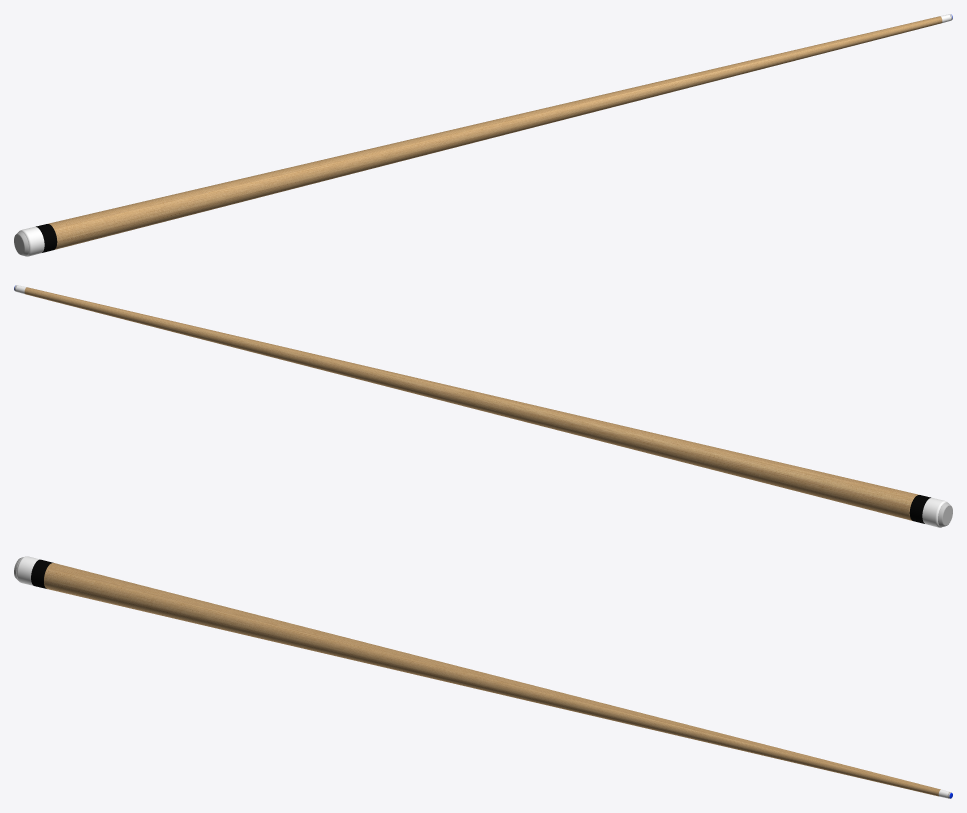
File: cue.obj
The picture shows the model from 3 angles, top to bottom: view 1: azimuth 30°, elevation 25°; view 2: azimuth 150°, elevation 25°; view 3: azimuth 330°, elevation 25°; orthographic projection.
Visible parts, largest first — view 1: Base, Markers; view 2: Base, Markers; view 3: Base.
Part boxes in pixels (x1=…): Base: x1=48, y1=16, x2=942, y2=249; Markers: x1=19, y1=14, x2=950, y2=256; Base: x1=24, y1=287, x2=919, y2=520; Markers: x1=16, y1=285, x2=947, y2=527; Base: x1=44, y1=563, x2=949, y2=796.
Bounding box in the file's own units: 1.16 × 0.0295 × 0.0295.
